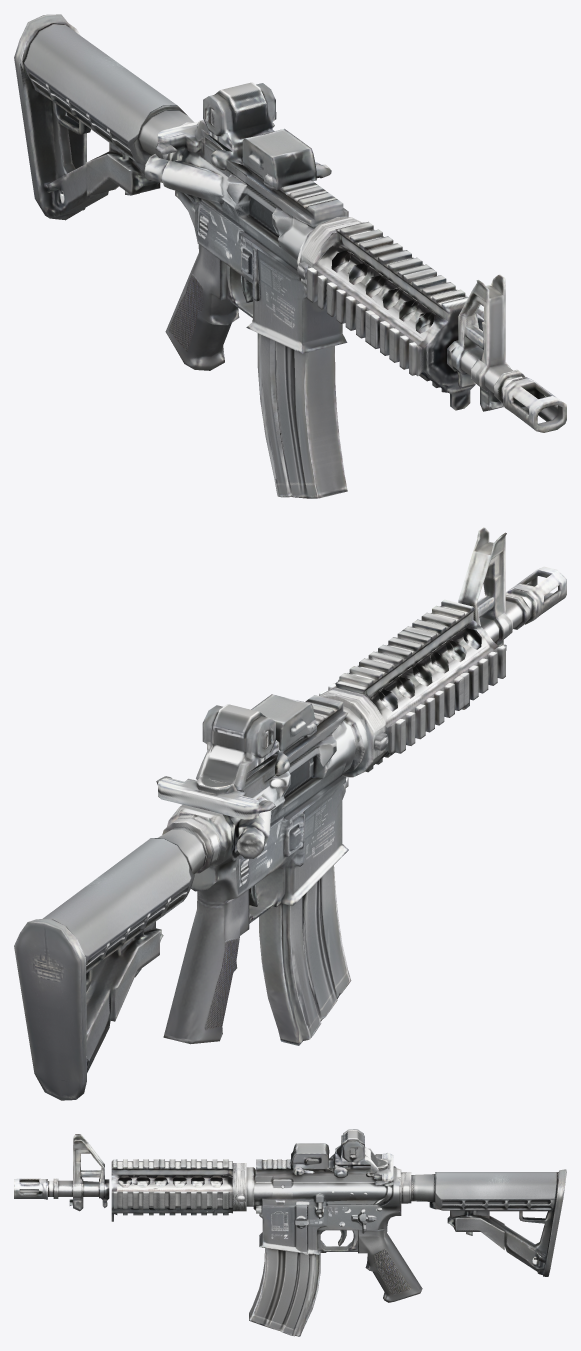
The model's file is base_basic_shaded.glb.
3 renders of one model, top to bottom at view 1: azimuth 30°, elevation 25°; view 2: azimuth 150°, elevation 25°; view 3: azimuth 270°, elevation 25°, orthographic. The views are drawn at different scales.
Visible parts, largest first — view 1: model; view 2: model; view 3: model.
Part boxes in pixels (x1,y1,x2,y2): model: (14, 14, 566, 498); model: (14, 527, 566, 1100); model: (14, 1129, 566, 1336).
Bounding box in the file's own units: 0.2845 × 0.85 × 2.12.
1 material, 1 textured.
